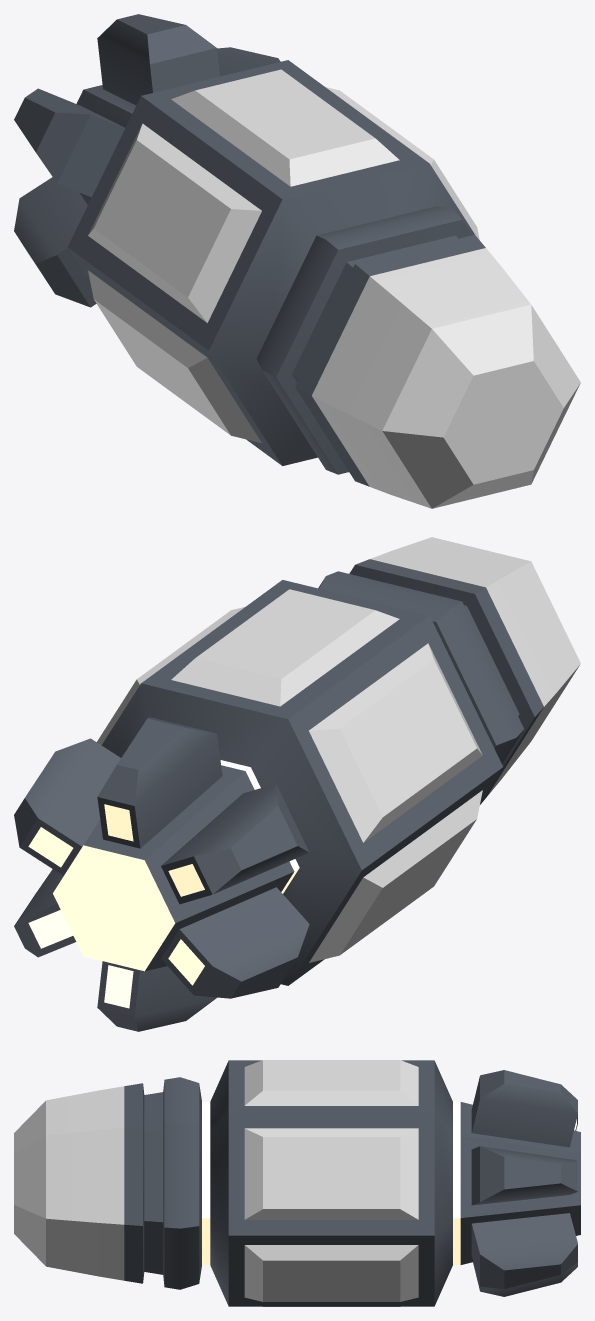
The model's file is 01_missile_howler.glb.
3 views of the same model, one above another, from view 1: azimuth 30°, elevation 25°; view 2: azimuth 150°, elevation 25°; view 3: azimuth 270°, elevation 25° (orthographic). The views are drawn at different scales.
Visible parts, largest first — view 1: 01_missile_howler; view 2: 01_missile_howler; view 3: 01_missile_howler.
Part boxes in pixels (<box>): 01_missile_howler: <box>14,14,580,508</box>; 01_missile_howler: <box>14,537,580,1031</box>; 01_missile_howler: <box>14,1060,580,1306</box>.
Bounding box in the file's own units: 0.4273 × 0.4125 × 0.9798.
